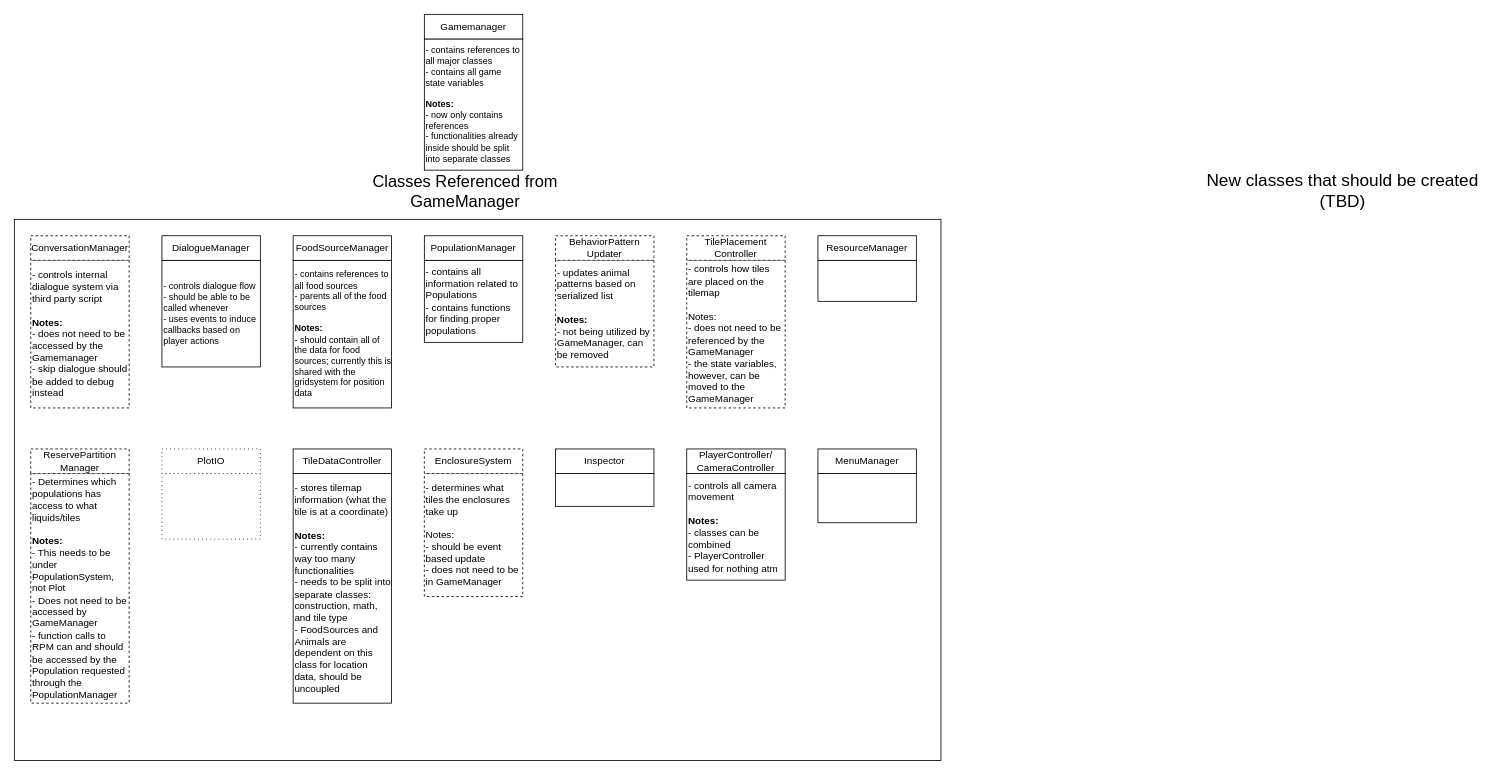
Some shapes in this 1505 by 775 pixel diagram are drawn without their labels. The centre of each missing label's shape, as x and y in pixels:
"- contains collection of resources" goes at [866,280].
"- controls how the map is loaded in Notes: - can just be private" goes at [210,506].
"- controls Inspector functionality" goes at [604,489].
"- controls menu flow and what state the menus are in" goes at [866,498].
